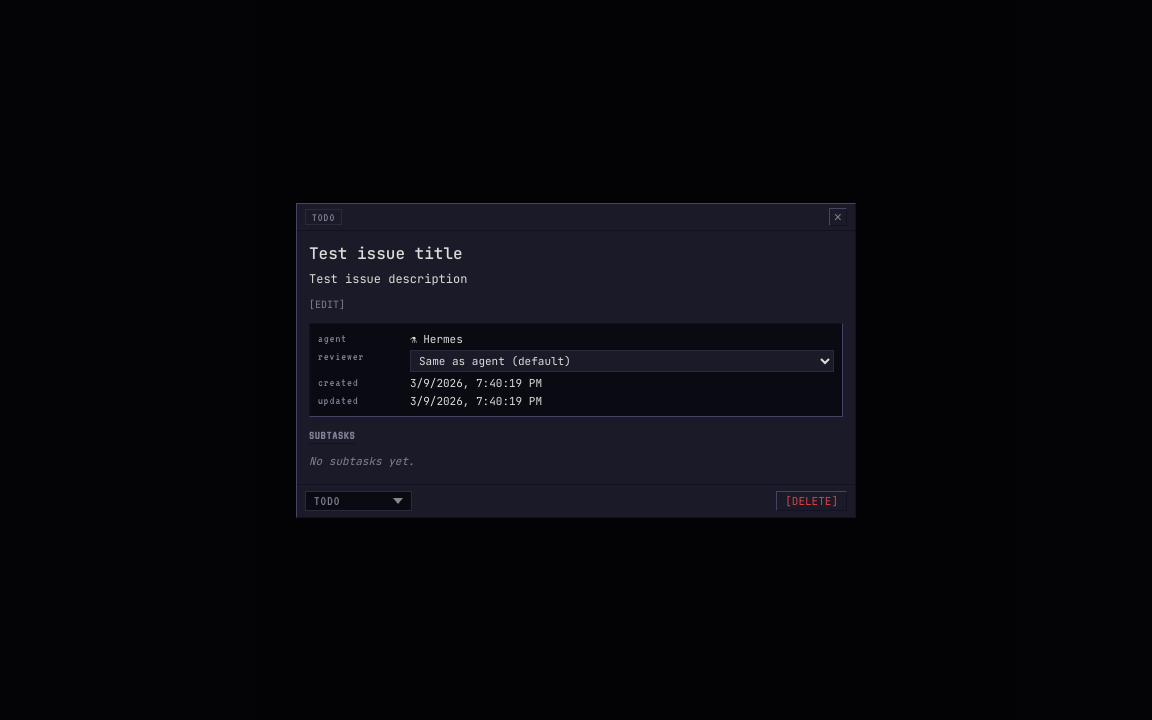
Test: IssueDetail › switches from view mode to edit mode when EDIT is clicked
Click the button "[EDIT]".
click(327, 304)  # box [309,298,345,310]
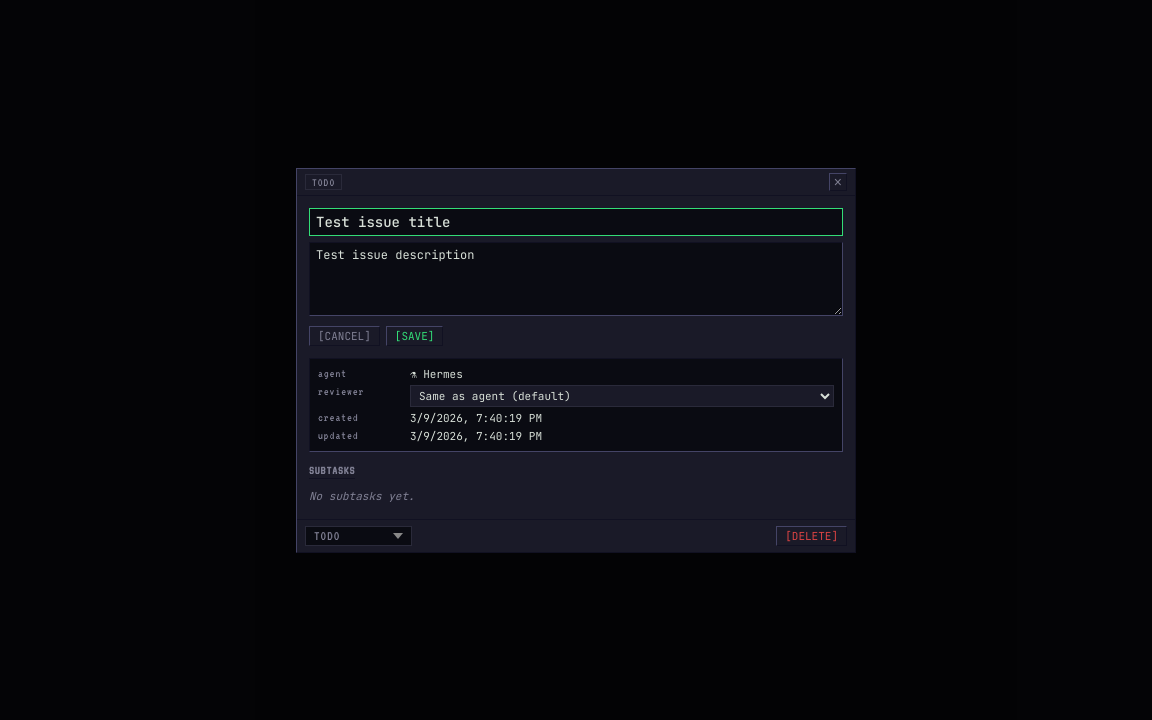
Expected: the field showing "Test issue title" is shown, [309,208,843,236]
Expected: the button "[SAVE]" is shown, [386,326,443,346]
